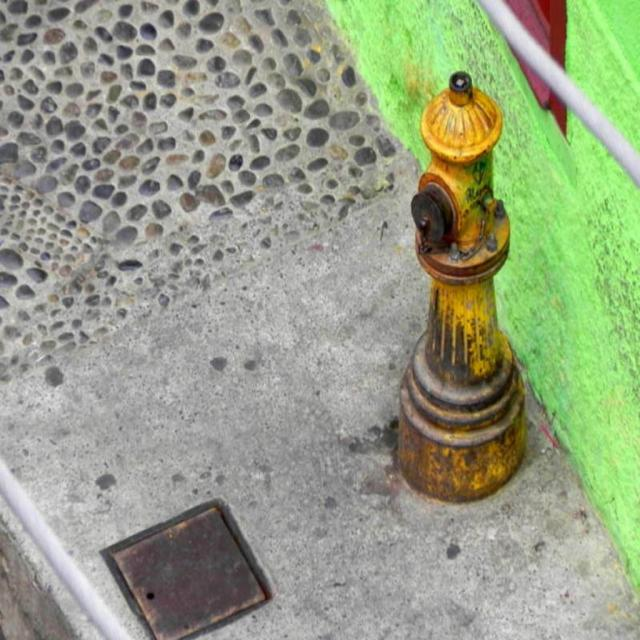fire_hydrant: (396, 71, 528, 504)
